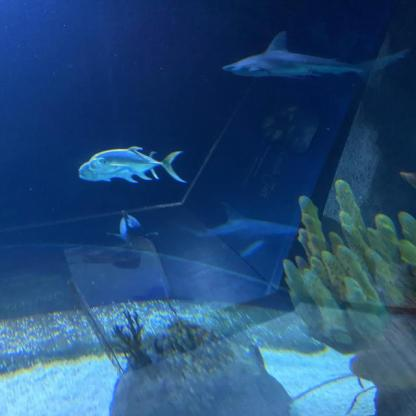fish: (92, 147, 184, 181), (73, 150, 156, 185), (112, 213, 153, 251)
shark: (218, 31, 411, 78), (185, 210, 313, 265)
